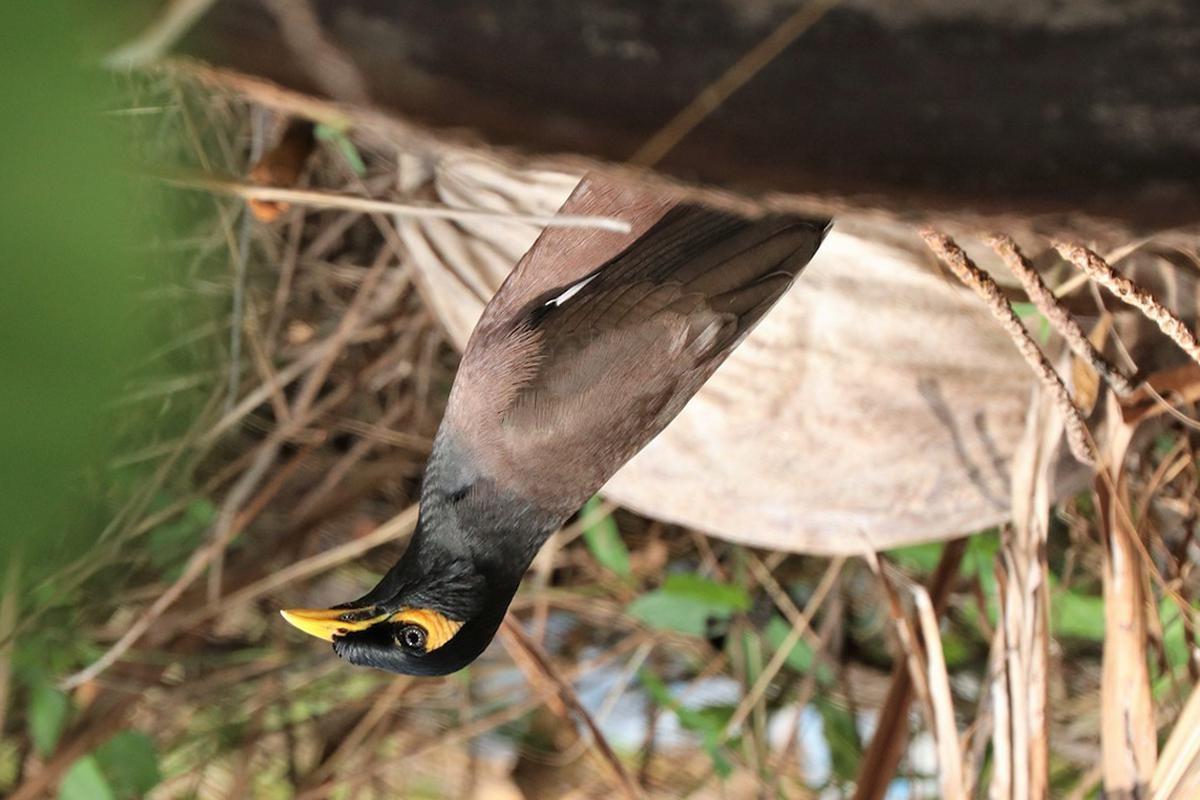myna: (261, 164, 818, 696)
